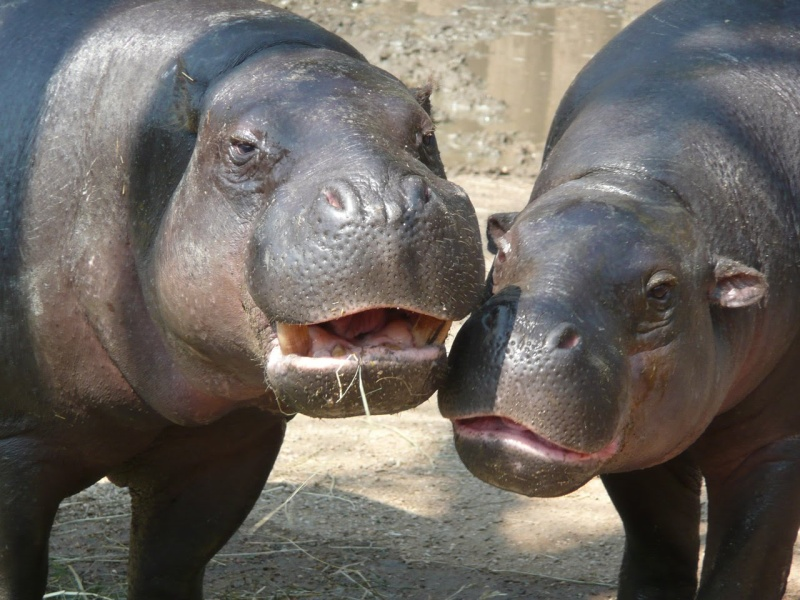hipopotamo: (0, 1, 471, 561), (429, 1, 800, 528)
